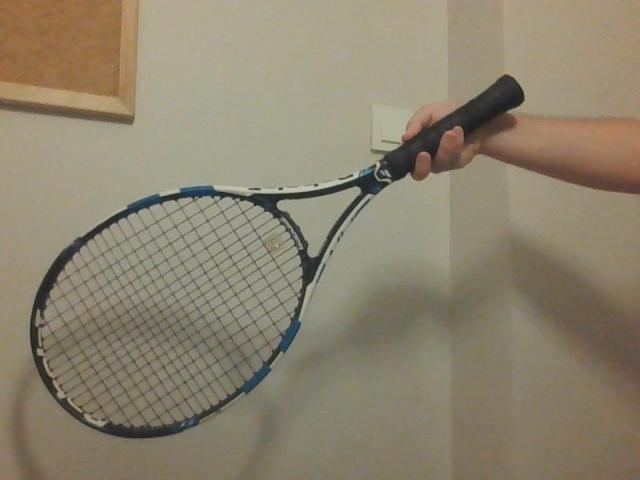Tennis-Racket: (31, 74, 524, 441)
